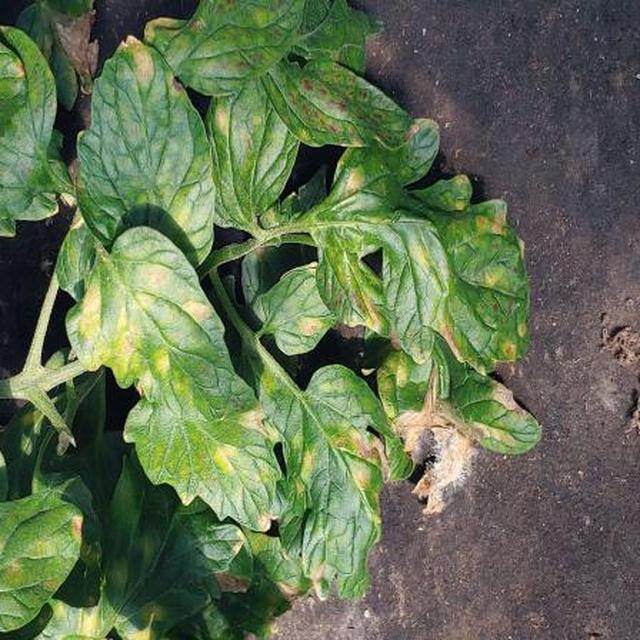Leaf Mold: (128, 135, 605, 640)
